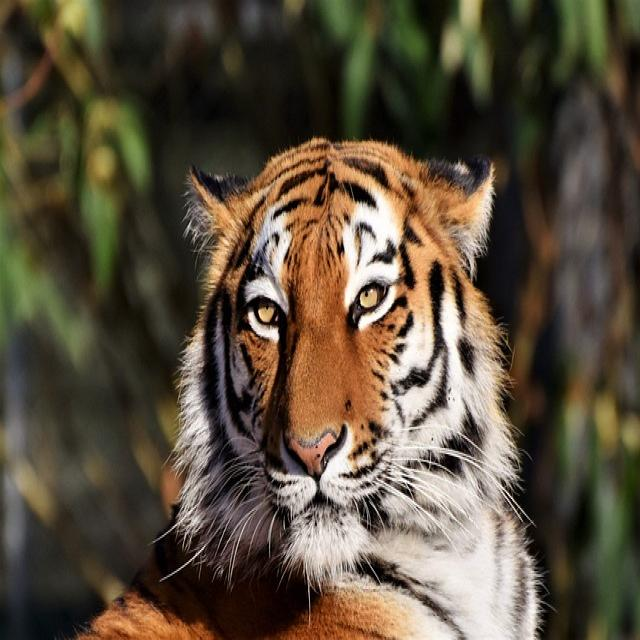Carnivorous: (69, 138, 554, 640)
